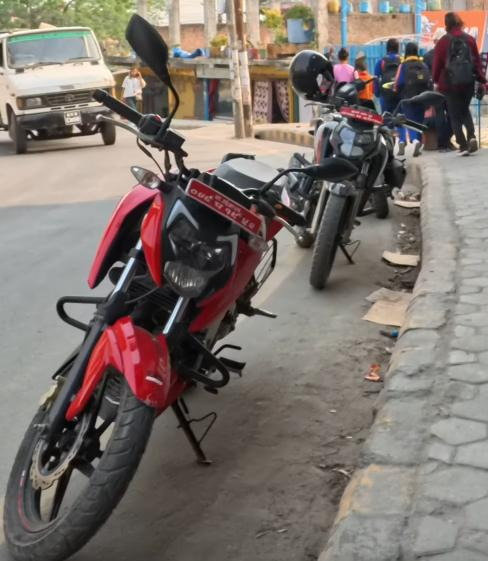bike: (0, 11, 298, 561), (287, 73, 444, 287)
